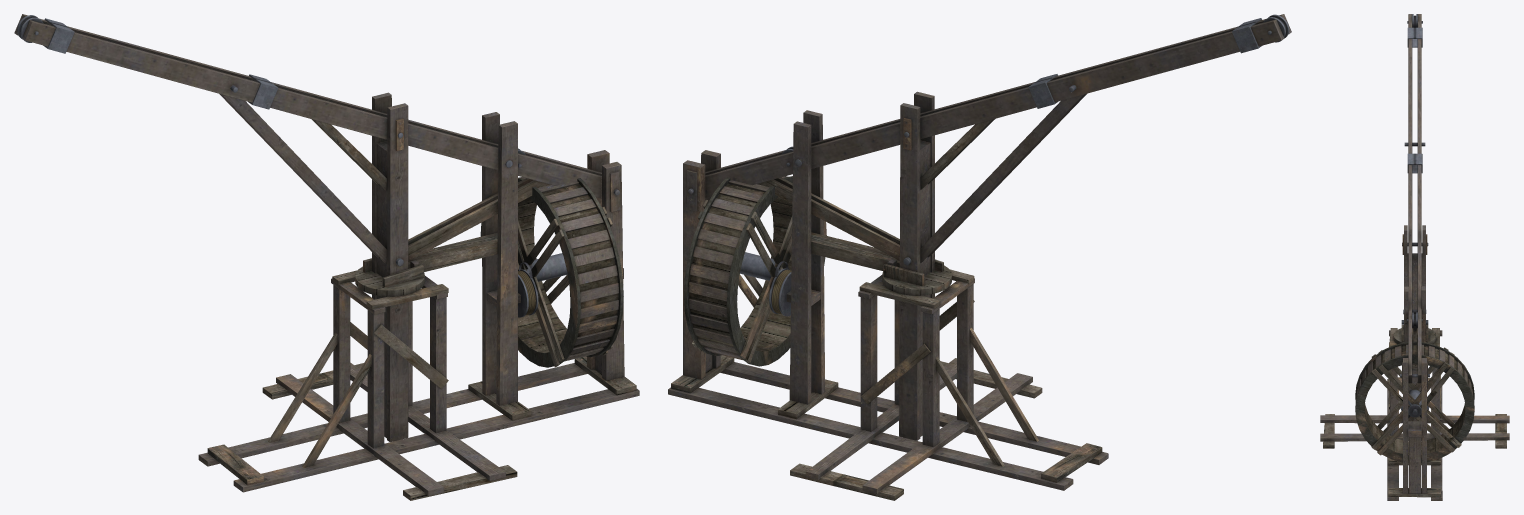
File: Crane.fbx
3 renders of one model, left to right at view 1: azimuth 30°, elevation 25°; view 2: azimuth 150°, elevation 25°; view 3: azimuth 270°, elevation 25°, orthographic. The views are drawn at different scales.
Parts seen in each view (by area): view 1: Cube; view 2: Cube; view 3: Cube.
Part boxes in pixels (x1,y1,x2,y2): Cube: (14, 14, 639, 500); Cube: (668, 14, 1291, 500); Cube: (1320, 14, 1509, 500).
Bounding box in the file's own units: 1535 × 1237 × 684.
